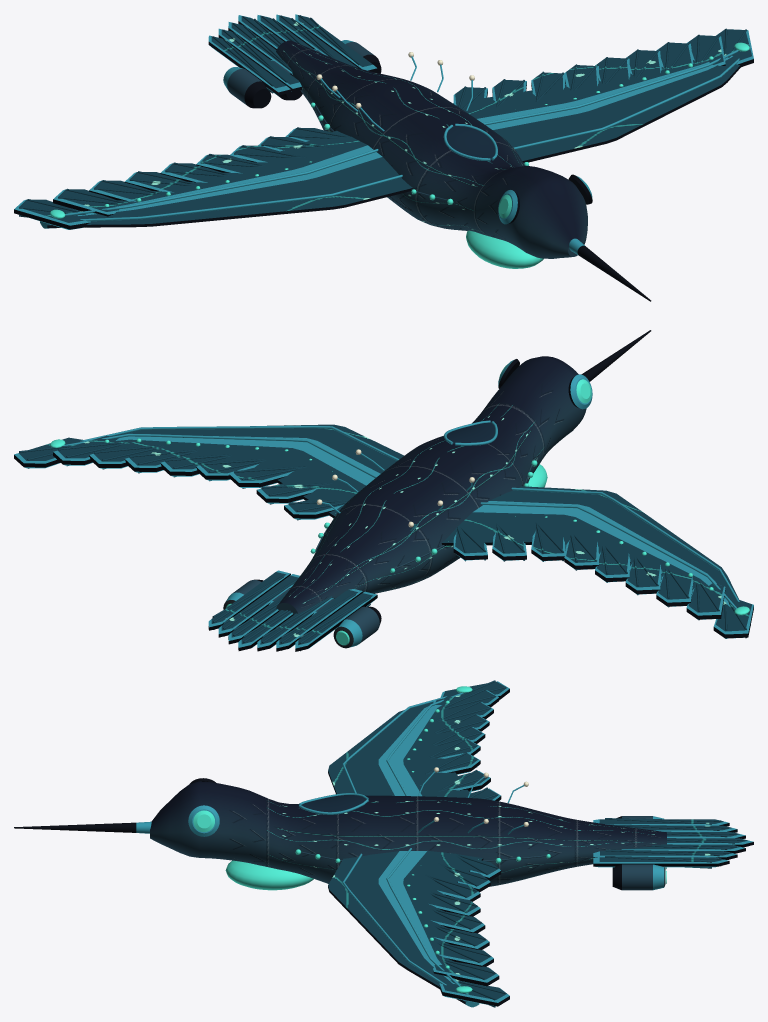
3 renders of one model, top to bottom at view 1: azimuth 30°, elevation 25°; view 2: azimuth 150°, elevation 25°; view 3: azimuth 270°, elevation 25°, orthographic. The views are drawn at different scales.
Parts seen in each view (by area): view 1: hummingbird_hull; view 2: hummingbird_hull; view 3: hummingbird_hull.
Part boxes in pixels (left/top/right/bottom): hummingbird_hull: left=14, top=14, right=753, bottom=301; hummingbird_hull: left=14, top=330, right=753, bottom=651; hummingbird_hull: left=14, top=680, right=753, bottom=1007.
Size of the model in its own units: 17 by 2.47 by 16.53.
Materials: 1 (1 with a texture image).
